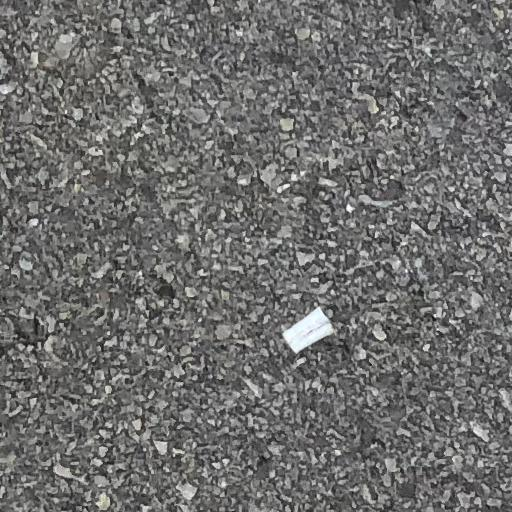smoke: (283, 307, 334, 353)
